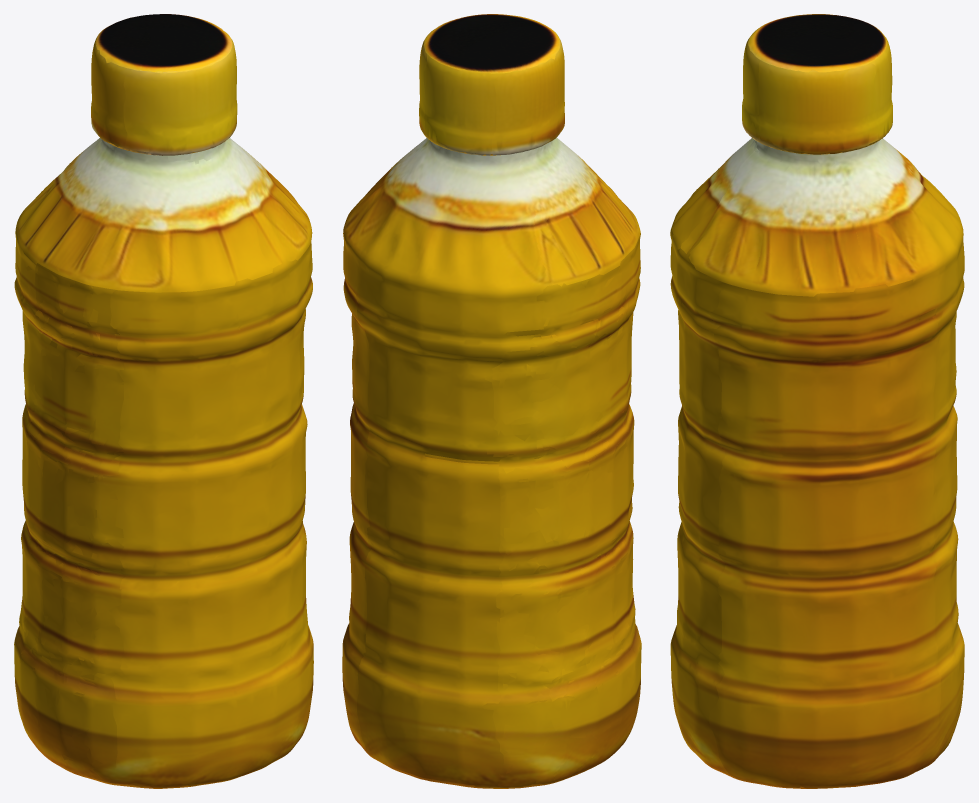
3 views of the same model, side by side, from view 1: azimuth 30°, elevation 25°; view 2: azimuth 150°, elevation 25°; view 3: azimuth 270°, elevation 25° (orthographic).
Parts seen in each view (by area): view 1: tmpe9yr1hnq.ply; view 2: tmpe9yr1hnq.ply; view 3: tmpe9yr1hnq.ply.
Boxes of the visible parts, box(x1,y1,x2,y2) form: tmpe9yr1hnq.ply: box(14, 14, 313, 788); tmpe9yr1hnq.ply: box(342, 14, 641, 788); tmpe9yr1hnq.ply: box(670, 14, 964, 788).
Size of the model in its own units: 75.72 by 196 by 74.97.
1 material, 1 textured.
